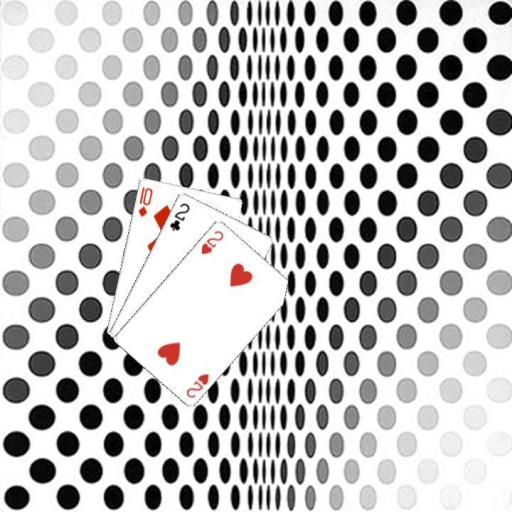10D: (135, 184, 154, 219)
2C: (167, 199, 192, 232)
2H: (183, 370, 210, 399), (198, 227, 225, 255)
